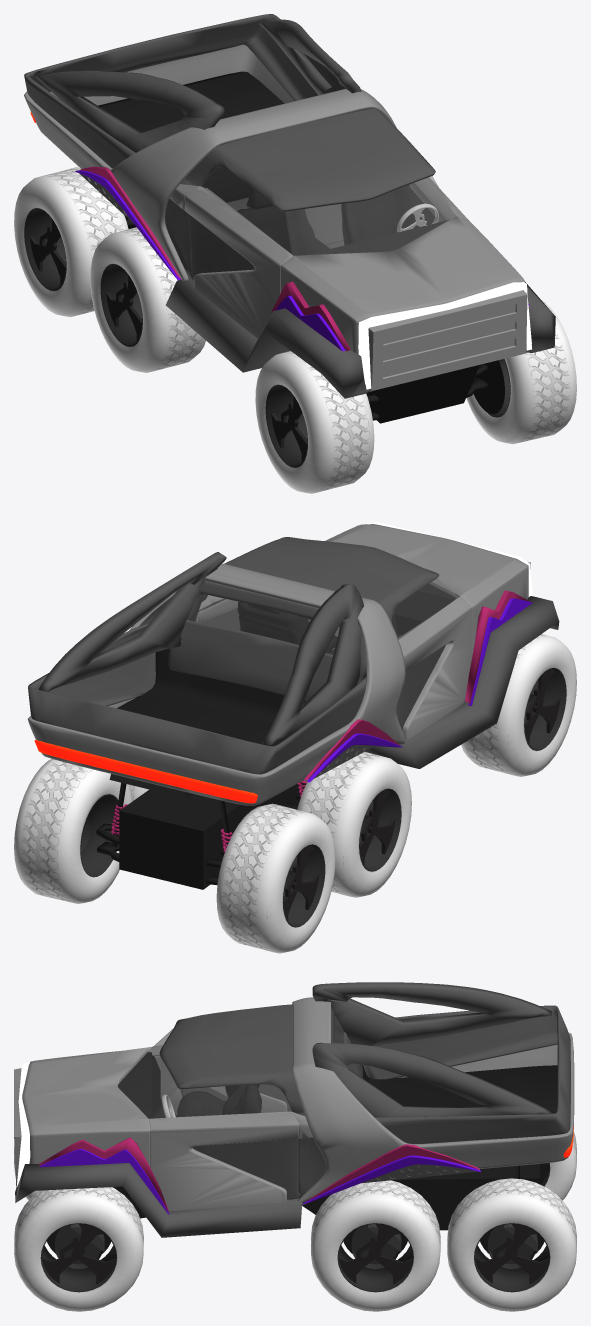
File: J7_game.glb
3 renders of one model, top to bottom at view 1: azimuth 30°, elevation 25°; view 2: azimuth 150°, elevation 25°; view 3: azimuth 270°, elevation 25°, orthographic. The views are drawn at different scales.
Visible parts, largest first — view 1: body_paint_base_game, body_paint_base_2_game, tire_game (×4), body_trim_game, body_glass_game, body_paint_base_3_game, rim_barrel_game (×3), body_paint_under_game, rim_face_game (×3), body_light_head_game, body_paint_accent_1_game, body_paint_accent_2_game; view 2: body_paint_base_2_game, tire_game (×4), body_paint_base_game, body_trim_game, body_paint_under_game, body_paint_base_3_game, rim_barrel_game (×4), body_glass_game, rim_face_game (×3), body_light_tail_game, body_paint_accent_1_game, body_paint_accent_2_game; view 3: body_paint_base_2_game, body_paint_base_game, tire_game (×4), body_trim_game, body_paint_base_3_game, body_glass_game, rim_face_game (×3), rim_barrel_game (×3), body_paint_under_game, body_paint_accent_2_game, body_paint_accent_1_game, brake_disc_game (×3) (+1 smaller).
Boxes of the visible parts, bbox=[...] form: body_paint_base_game: bbox=[24, 44, 527, 390]; body_paint_base_2_game: bbox=[24, 14, 438, 280]; tire_game (×4): bbox=[14, 167, 576, 493]; body_trim_game: bbox=[98, 71, 504, 420]; body_glass_game: bbox=[200, 167, 454, 255]; body_paint_base_3_game: bbox=[165, 198, 555, 398]; rim_barrel_game (×3): bbox=[24, 208, 307, 467]; body_paint_under_game: bbox=[124, 197, 479, 423]; rim_face_game (×3): bbox=[30, 219, 307, 461]; body_light_head_game: bbox=[358, 282, 531, 391]; body_paint_accent_1_game: bbox=[80, 166, 350, 351]; body_paint_accent_2_game: bbox=[75, 170, 529, 351]; body_paint_base_2_game: bbox=[28, 537, 445, 781]; tire_game (×4): bbox=[14, 634, 576, 953]; body_paint_base_game: bbox=[28, 524, 530, 805]; body_trim_game: bbox=[96, 584, 455, 884]; body_paint_under_game: bbox=[109, 774, 305, 889]; body_paint_base_3_game: bbox=[308, 596, 559, 768]; rim_barrel_game (×4): bbox=[80, 668, 566, 927]; body_glass_game: bbox=[187, 578, 457, 654]; rim_face_game (×3): bbox=[283, 668, 560, 920]; body_light_tail_game: bbox=[34, 740, 257, 803]; body_paint_accent_1_game: bbox=[110, 590, 529, 854]; body_paint_accent_2_game: bbox=[307, 598, 532, 782]; body_paint_base_2_game: bbox=[159, 982, 570, 1205]; body_paint_base_game: bbox=[14, 997, 574, 1211]; tire_game (×4): bbox=[14, 1131, 576, 1311]; body_trim_game: bbox=[47, 1052, 557, 1253]; body_paint_base_3_game: bbox=[15, 1163, 302, 1237]; body_glass_game: bbox=[117, 1016, 344, 1118]; rim_face_game (×3): bbox=[42, 1223, 548, 1284]; rim_barrel_game (×3): bbox=[40, 1223, 550, 1292]; body_paint_under_game: bbox=[112, 1164, 539, 1230]; body_paint_accent_2_game: bbox=[40, 1149, 480, 1214]; body_paint_accent_1_game: bbox=[39, 1137, 479, 1212]; brake_disc_game (×3): bbox=[55, 1224, 535, 1269].
Size of what is drawn, in the model's own units: 1.91 by 1.89 by 3.91.
Materials: 17 (1 with a texture image).
